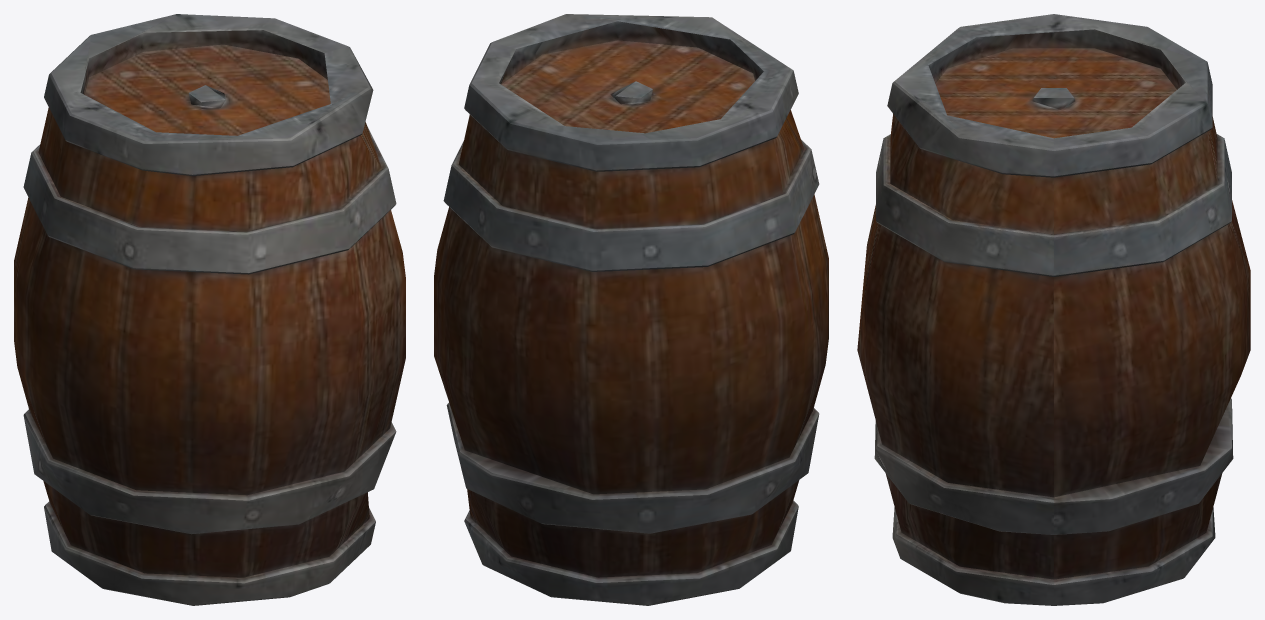
The picture shows the model from 3 angles, left to right: view 1: azimuth 30°, elevation 25°; view 2: azimuth 150°, elevation 25°; view 3: azimuth 270°, elevation 25°; orthographic projection.
Visible parts, largest first — view 1: barrel; view 2: barrel; view 3: barrel.
Boxes of the visible parts, x1,y1,x2,y2 form: barrel: (14,14,405,605); barrel: (434,14,828,605); barrel: (857,14,1250,605).
Bounding box in the file's own units: 0.7006 × 0.9 × 0.7006.
1 material, 1 textured.
